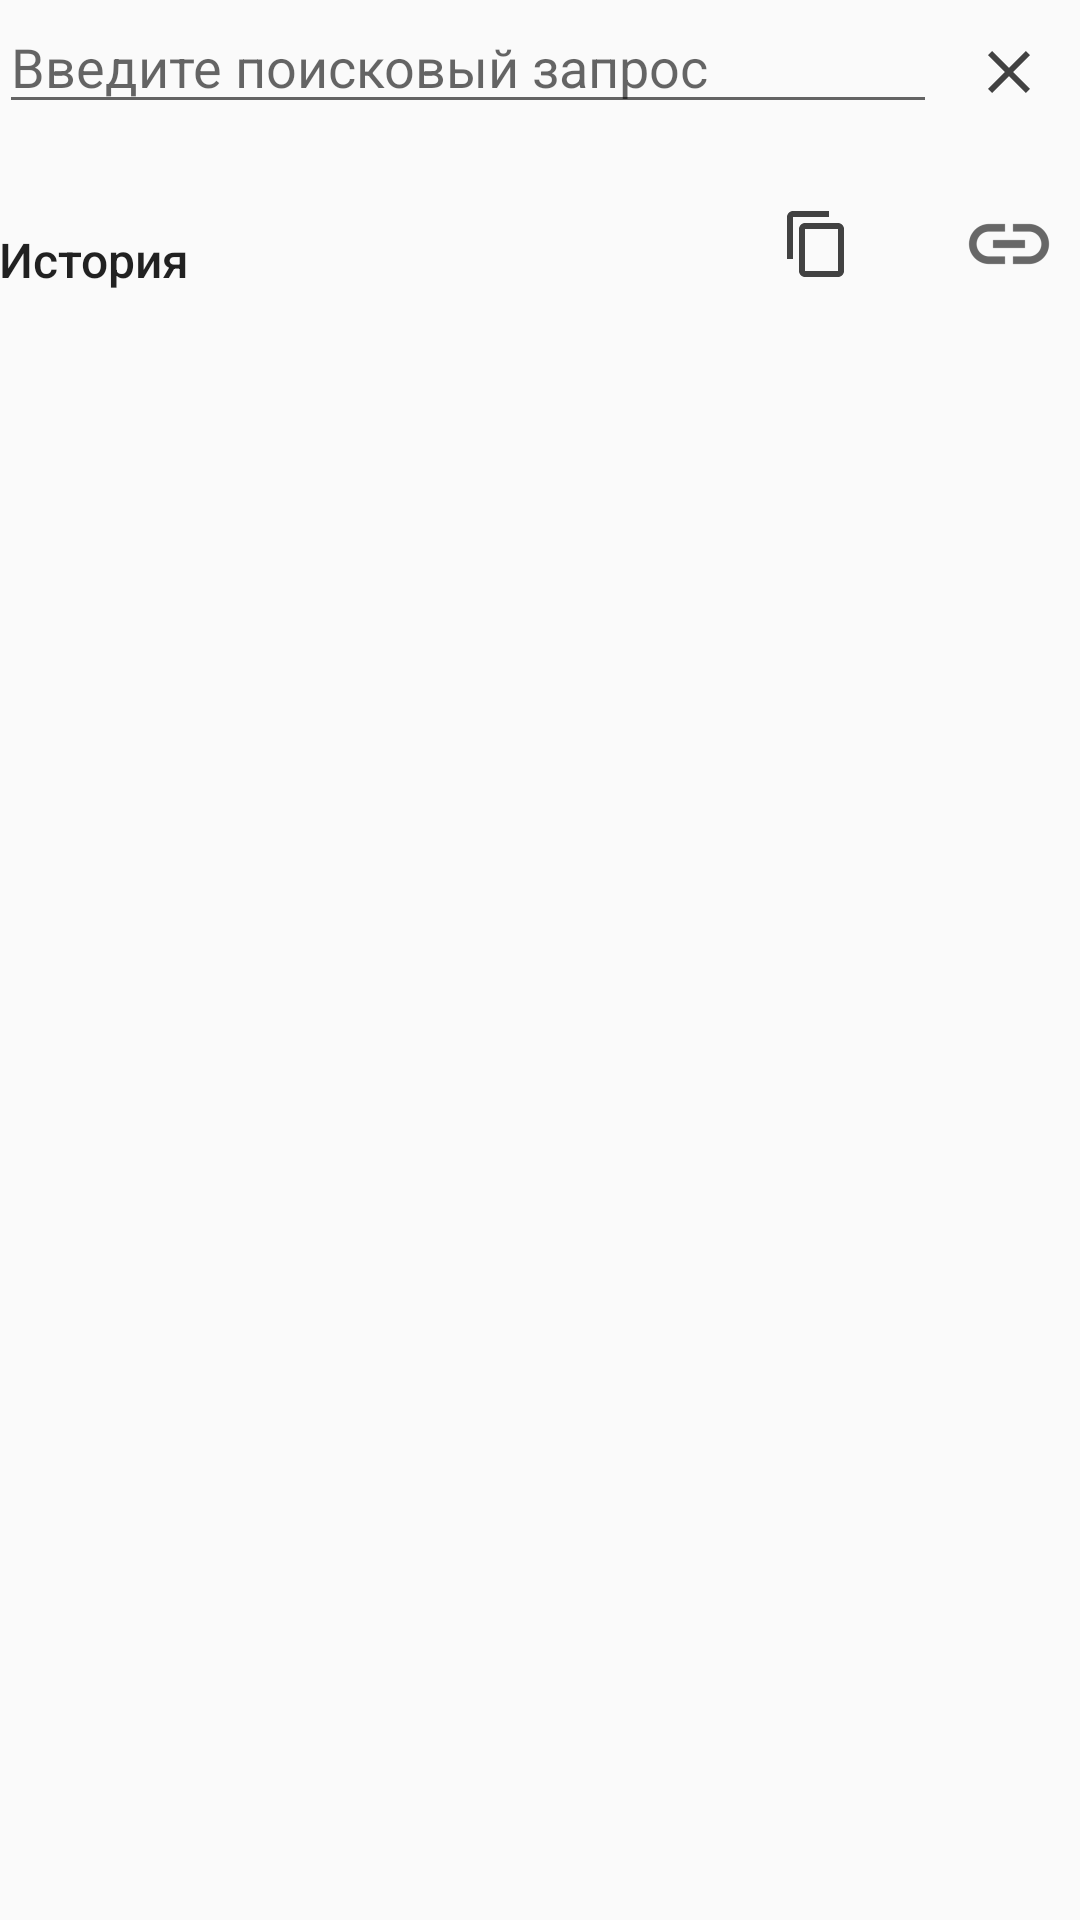

Icon bounding boxes for this 1080×1920 phone screenshot, format bbox=[x1, y1, x2, y2]:
clear all: bbox=[988, 51, 1030, 93]
insert link: bbox=[969, 224, 1049, 264]
